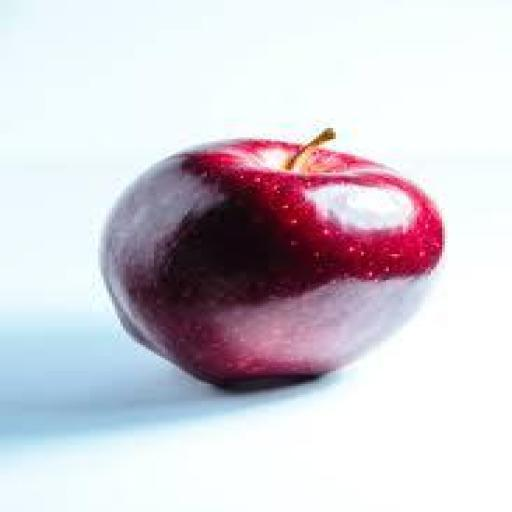apple: (101, 130, 442, 383)
